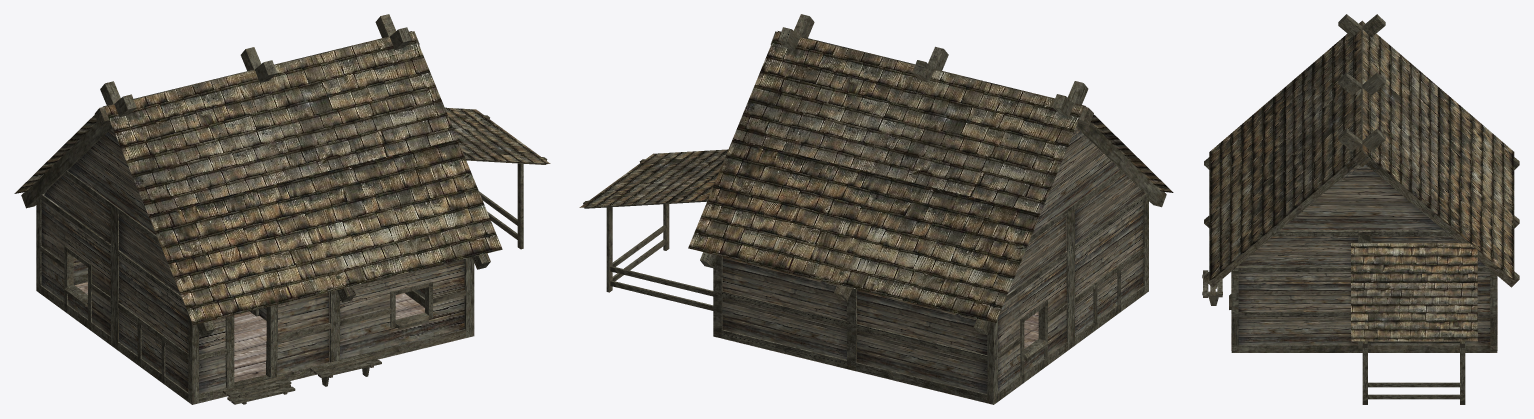
The model's file is VillageHouse.fbx.
3 renders of one model, left to right at view 1: azimuth 30°, elevation 25°; view 2: azimuth 150°, elevation 25°; view 3: azimuth 270°, elevation 25°, orthographic. The views are drawn at different scales.
Visible parts, largest first — view 1: Cube_Krisha_0, Cube_House_0, Cube_Lavo4ka_0; view 2: Cube_Krisha_0, Cube_House_0; view 3: Cube_Krisha_0, Cube_House_0, Cube_Lavo4ka_0.
Boxes of the visible parts, box(x1,y1,x2,y2) form: Cube_Krisha_0: box(14, 31, 550, 324); Cube_House_0: box(21, 14, 547, 404); Cube_Lavo4ka_0: box(223, 353, 381, 404); Cube_Krisha_0: box(579, 31, 1173, 323); Cube_House_0: box(583, 14, 1166, 404); Cube_Krisha_0: box(1209, 22, 1514, 341); Cube_House_0: box(1204, 14, 1519, 404); Cube_Lavo4ka_0: box(1202, 270, 1222, 305).
Size of the model in its own units: 662 by 370 by 477.
Materials: 3 (3 with a texture image).
